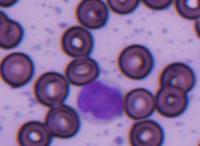M: (76, 78, 124, 123)
